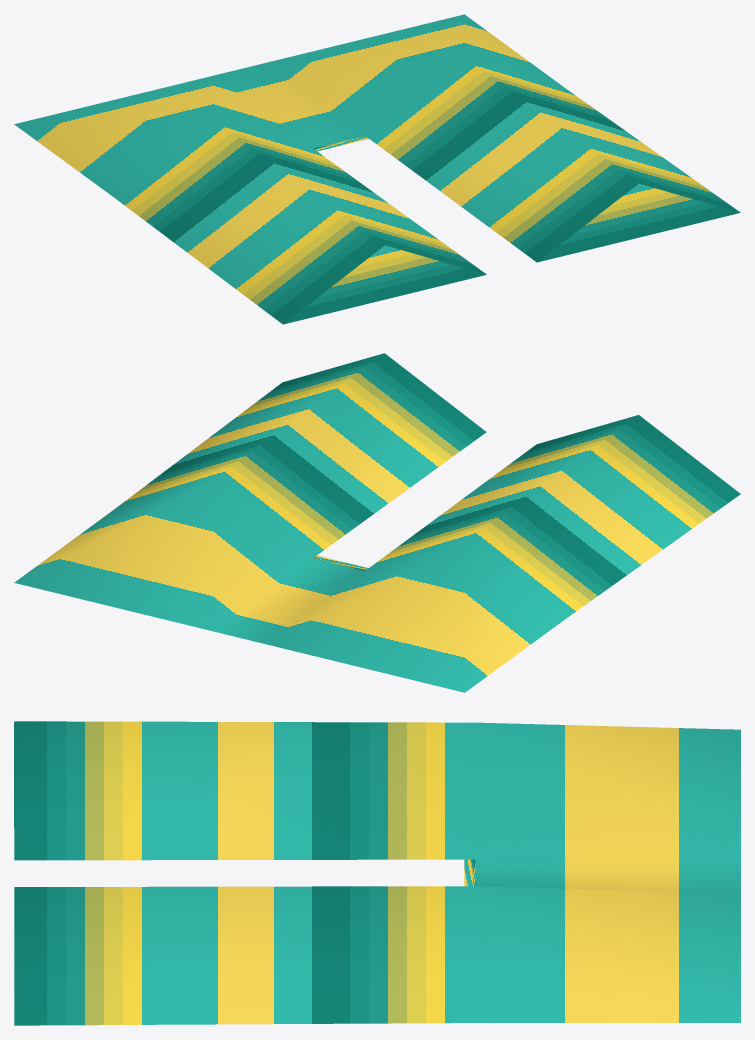
Rendered from 2154pants000_c.gltf.
The picture shows the model from 3 angles, top to bottom: view 1: azimuth 30°, elevation 25°; view 2: azimuth 150°, elevation 25°; view 3: azimuth 270°, elevation 25°; orthographic projection. The views are drawn at different scales.
Visible parts, largest first — view 1: 2154pants000_c; view 2: 2154pants000_c; view 3: 2154pants000_c.
Boxes of the visible parts, x1,y1,x2,y2 form: 2154pants000_c: (14,14,740,324); 2154pants000_c: (14,353,740,692); 2154pants000_c: (14,721,740,1025).
Bounding box in the file's own units: 0.7793 × 0.0884 × 0.803.
1 material, 1 textured.
